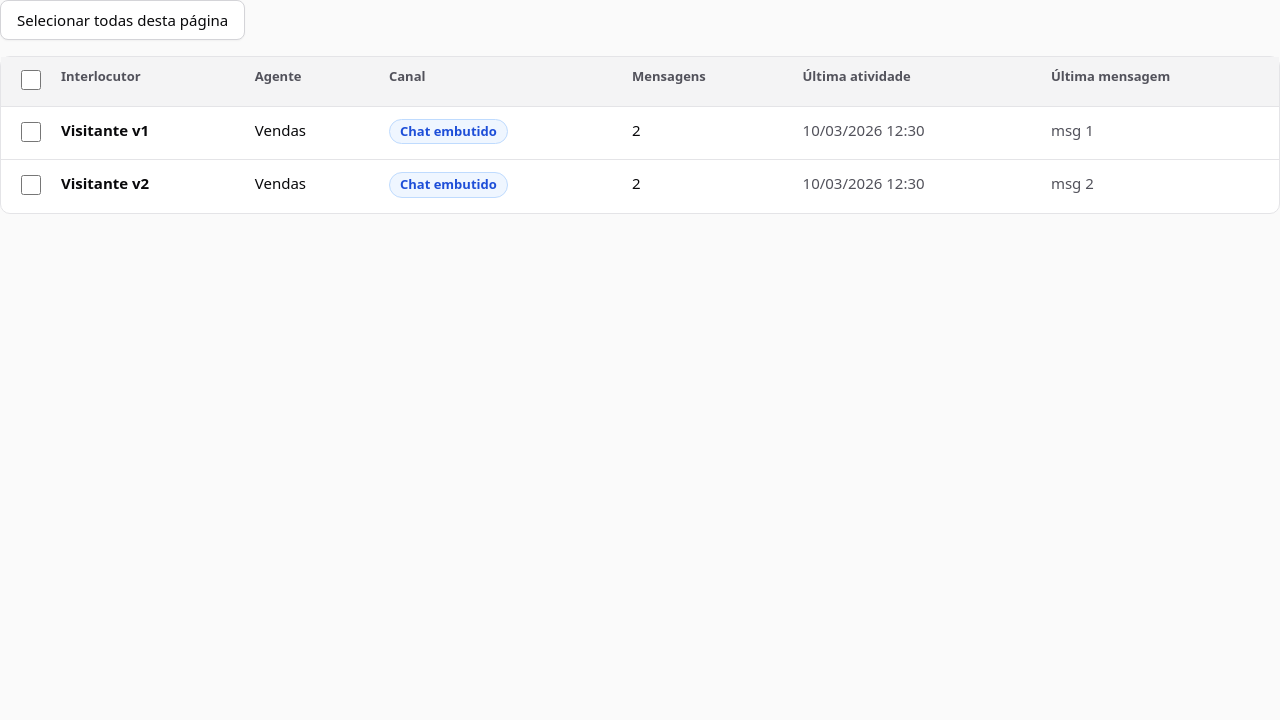
Scenario: lote (funcional) › falha do servidor mostra o erro na tela, mantém a seleção e permite tentar de novo
Click the checkbox named "Selecionar a conversa com Visitante v1" at x=31, y=132, box [21,122,41,142]
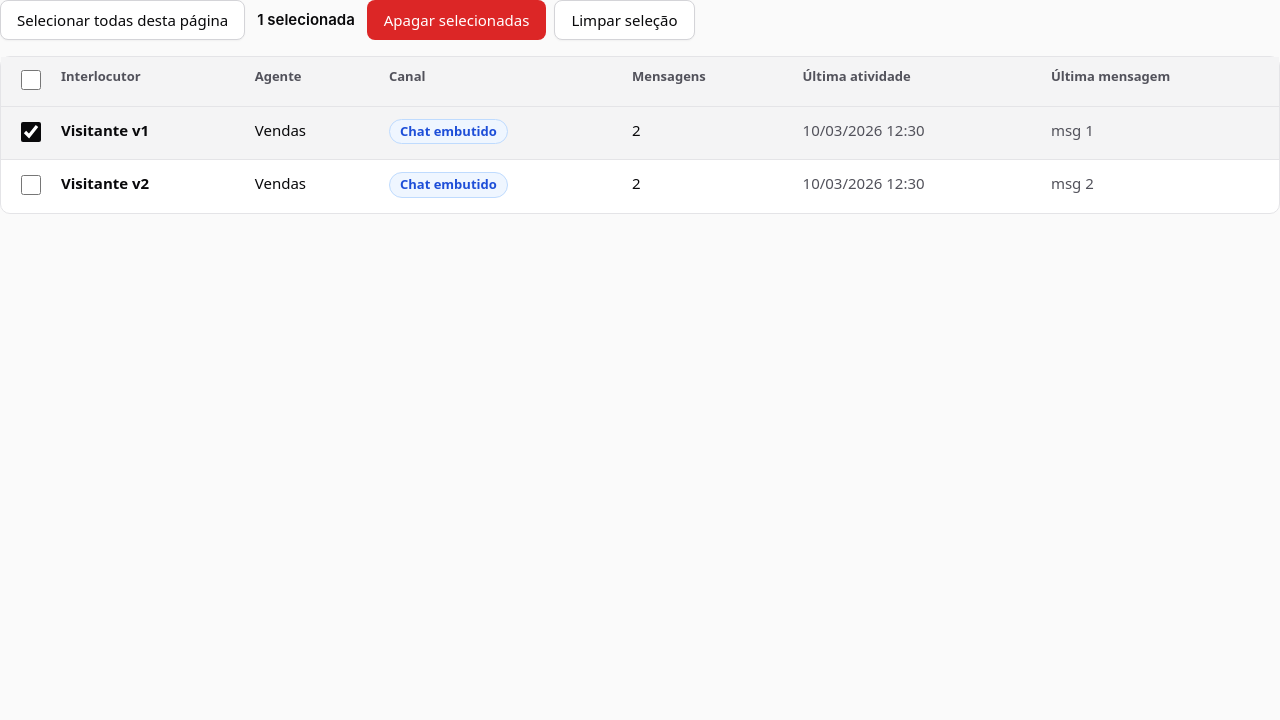
Click the button "Apagar selecionadas" at x=457, y=20, box [367,0,546,40]
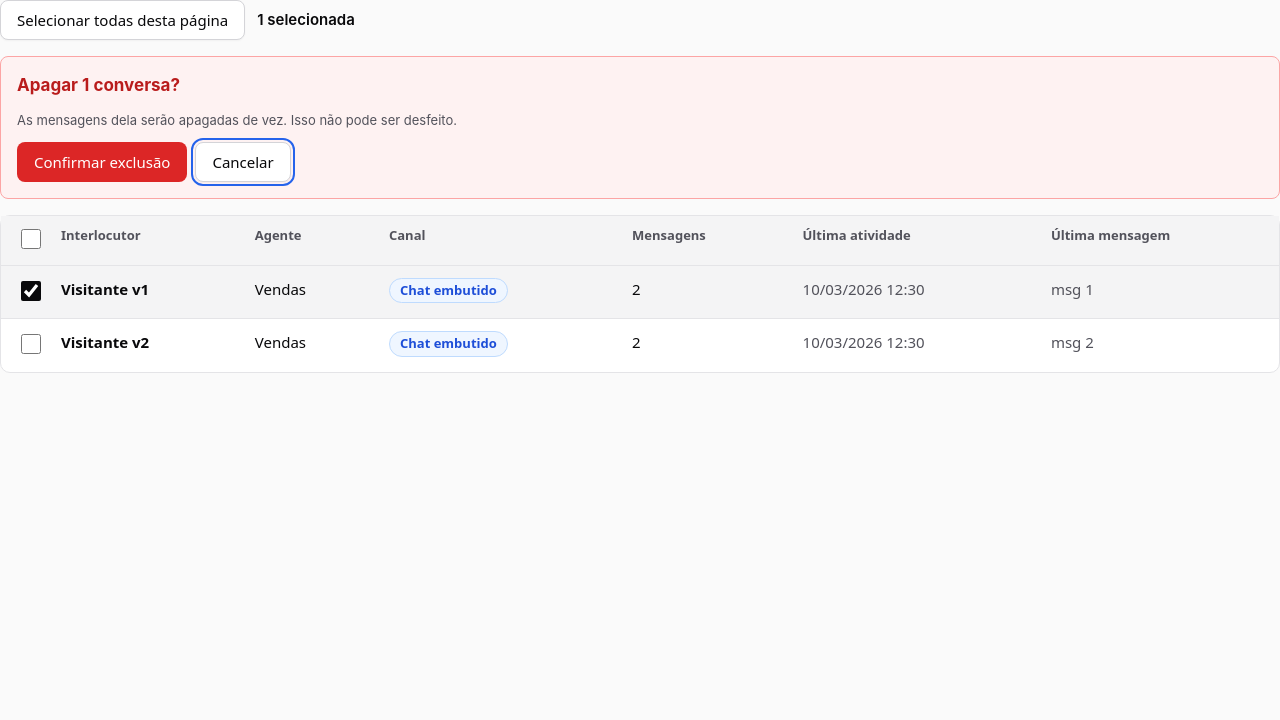
Click the button "Confirmar exclusão" at x=102, y=162, box [17,142,187,182]
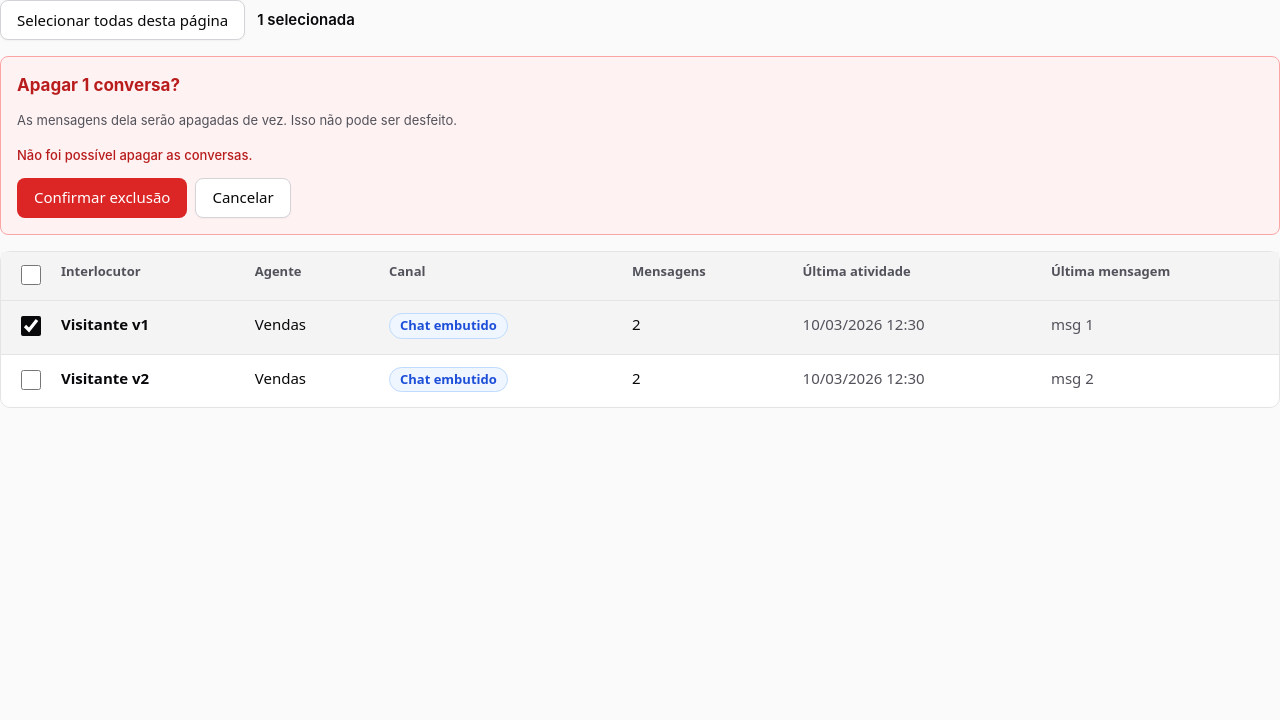
Check: the button "Confirmar exclusão" is enabled, box [17,178,187,218]
Check: the text "1 selecionada" is shown, box [257,9,355,31]
Check: the message "Não foi possível apagar as conversas." is shown, box [17,147,252,163]
